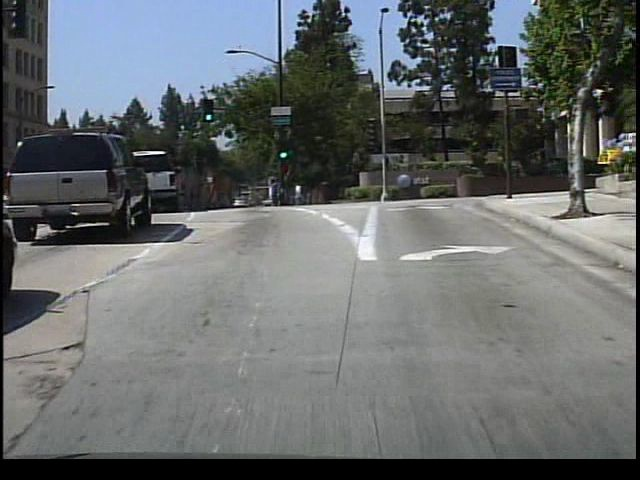person: (266, 172, 286, 209), (292, 179, 307, 207)
